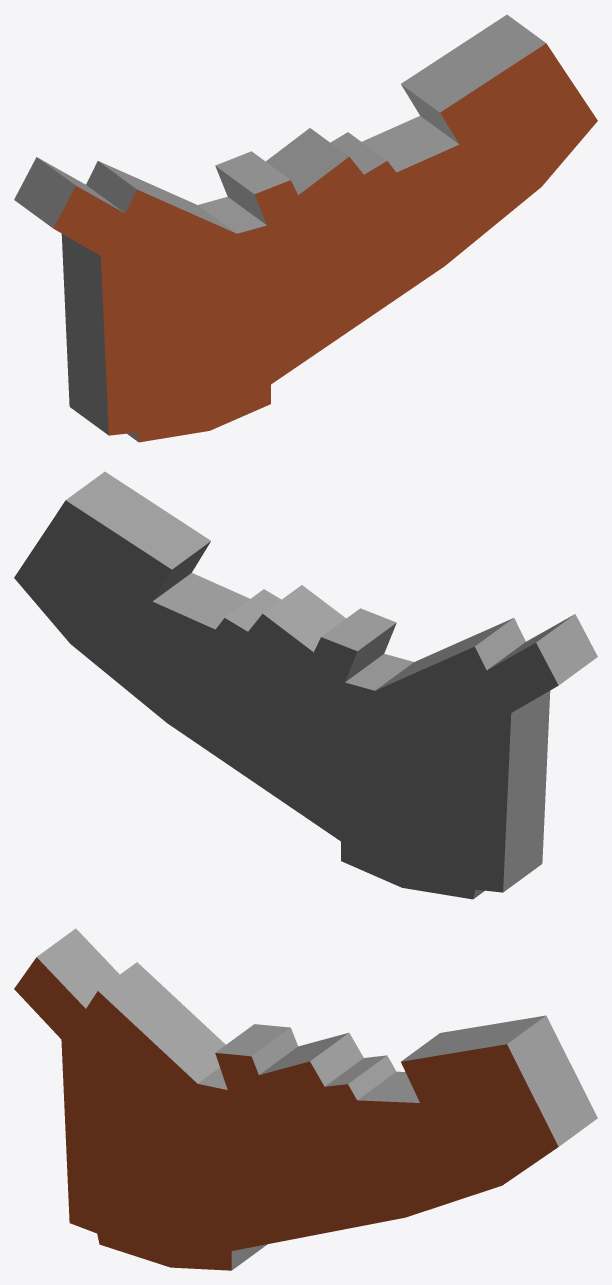
The model's file is construction_2222_assumed_A_Casa_h6m.obj.
3 views of the same model, one above another, from view 1: azimuth 30°, elevation 25°; view 2: azimuth 150°, elevation 25°; view 3: azimuth 330°, elevation 25° (orthographic).
Parts seen in each view (by area): view 1: construction_2222_assumed_A_Casa; view 2: construction_2222_assumed_A_Casa; view 3: construction_2222_assumed_A_Casa.
Part boxes in pixels (box(x1,y1,x2,y2)): construction_2222_assumed_A_Casa: box(14, 14, 597, 442); construction_2222_assumed_A_Casa: box(14, 471, 597, 899); construction_2222_assumed_A_Casa: box(14, 928, 597, 1270).
Bounding box in the file's own units: 48 × 25.73 × 6.
